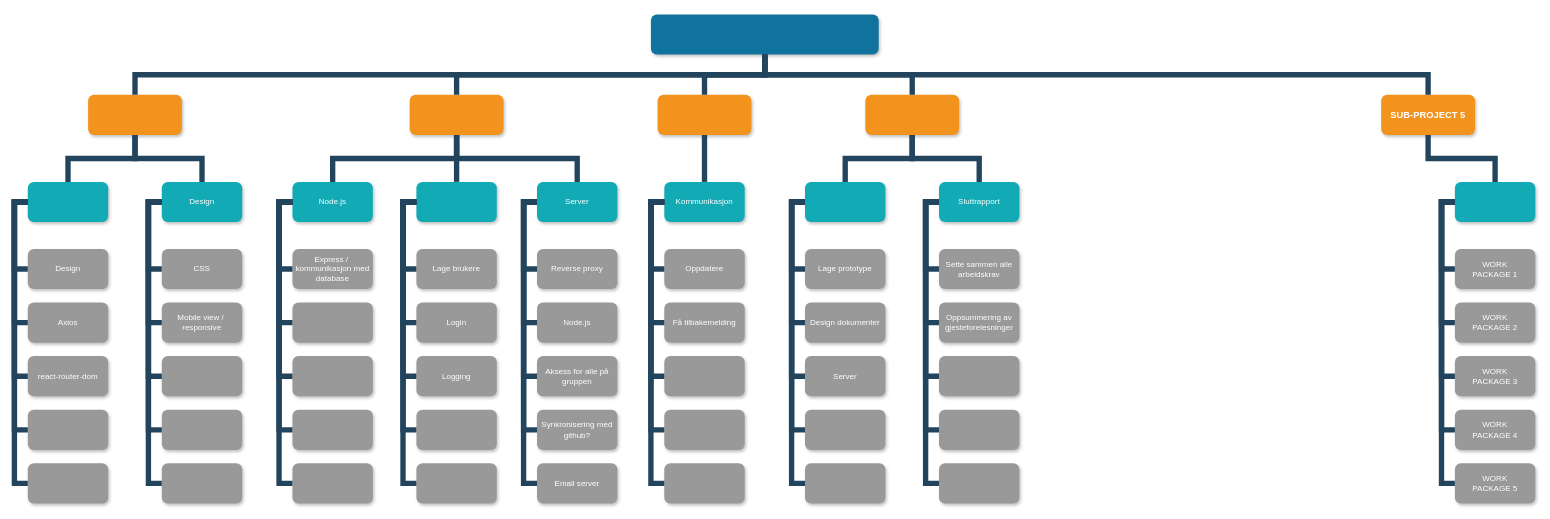
This 1550x519 diagram has some shape labels left out. Here are the shapes that lost their labels. From the top down, the centre of each, then its label:
At [765,35]: "Solvann AS".
At [135,115]: "Frontend".
At [457,115]: "Backend".
At [705,115]: "Kunderhåndtering".
At [912,115]: "Læring".
At [68,202]: "React".
At [456,202]: "MongoDB".
At [845,202]: "Arbeidskrav 3".
At [1495,202]: "SUB-TASK 2".
